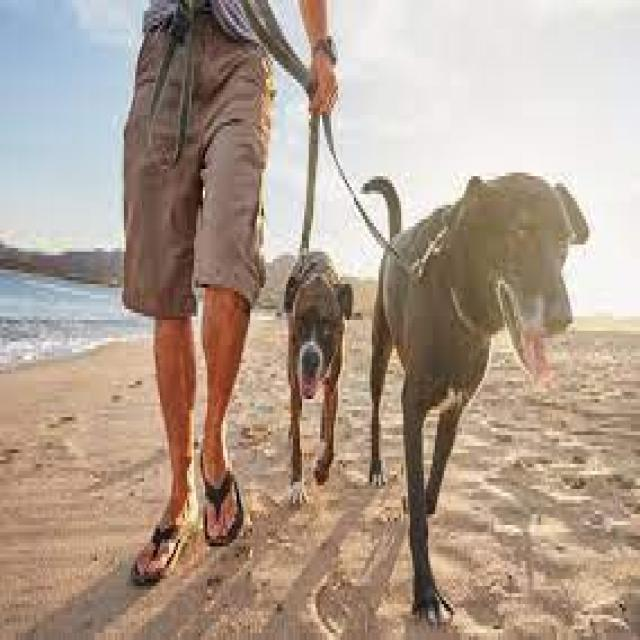No_Shoe: (129, 474, 184, 591), (197, 428, 245, 552)
